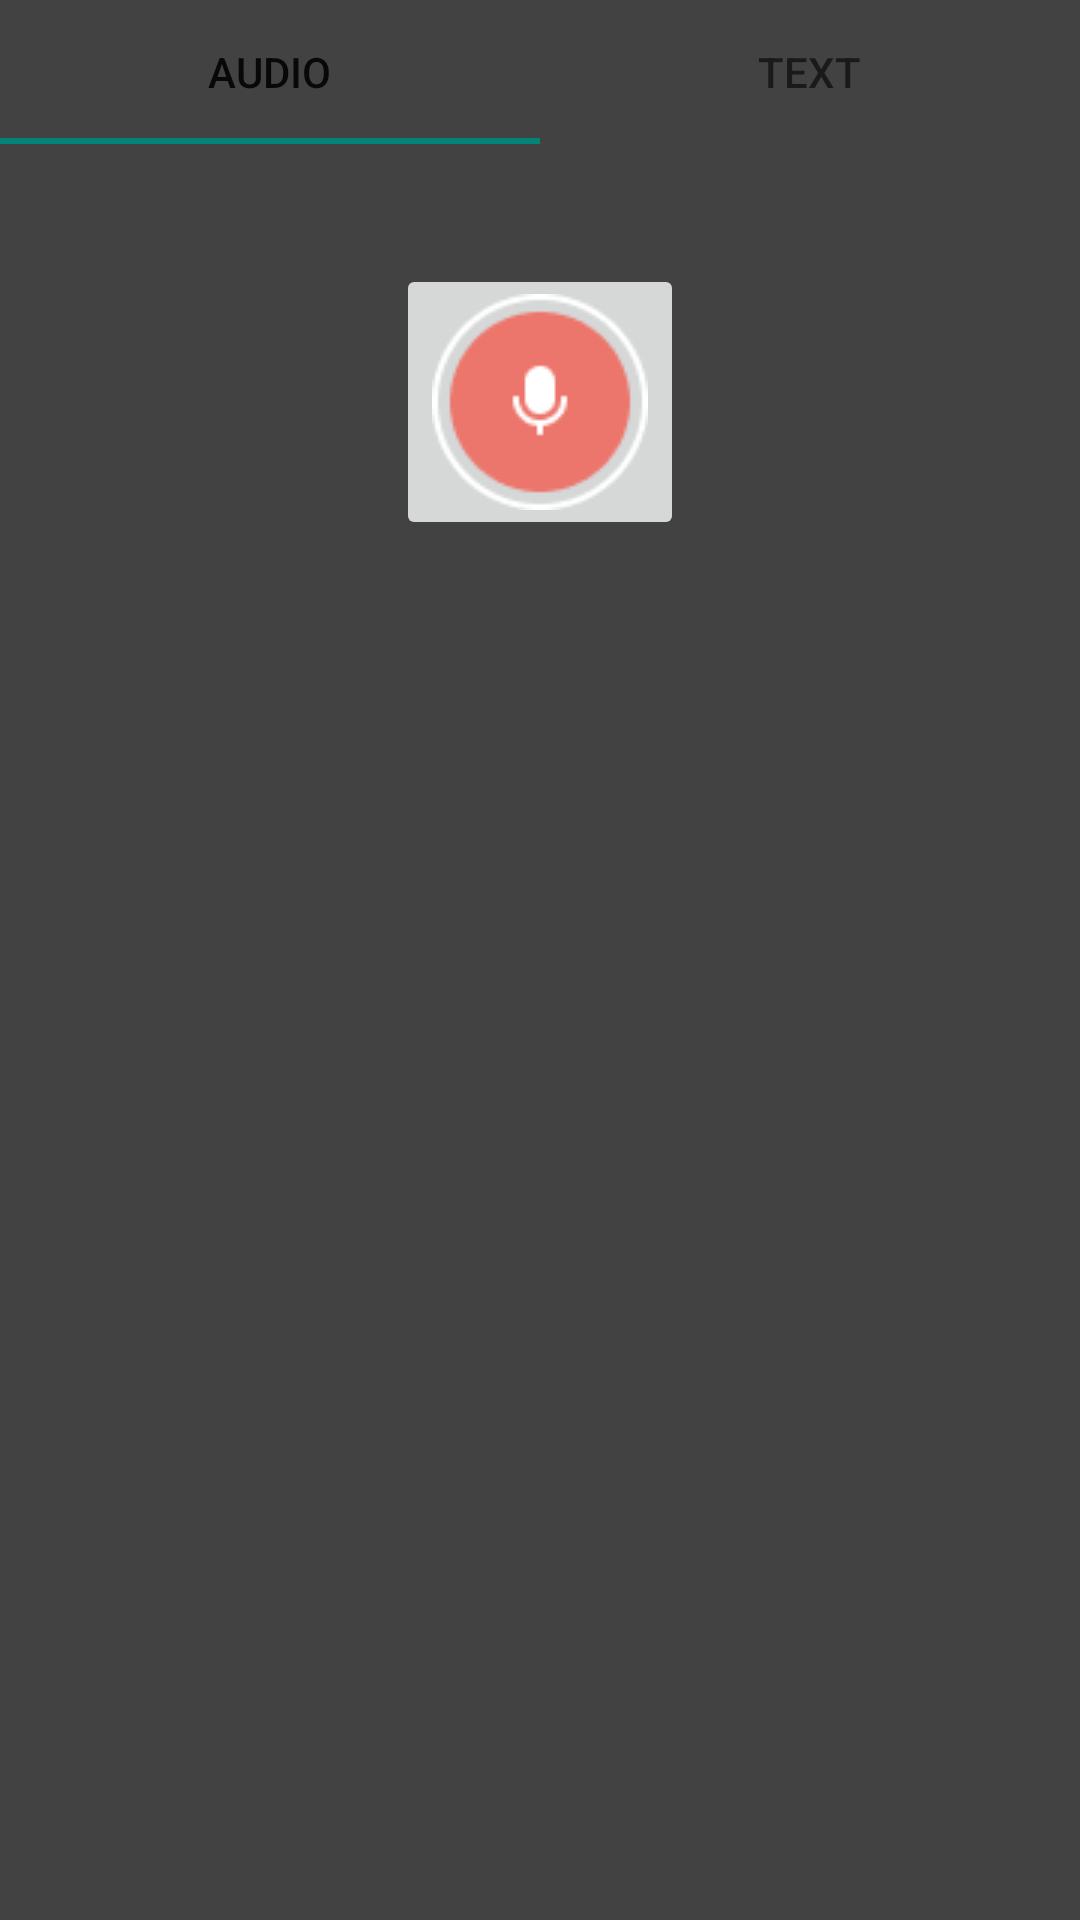

Icon click points for this 1080w x 1920h phone screenshot, format [x,y]:
record botton stop: [540,402]
